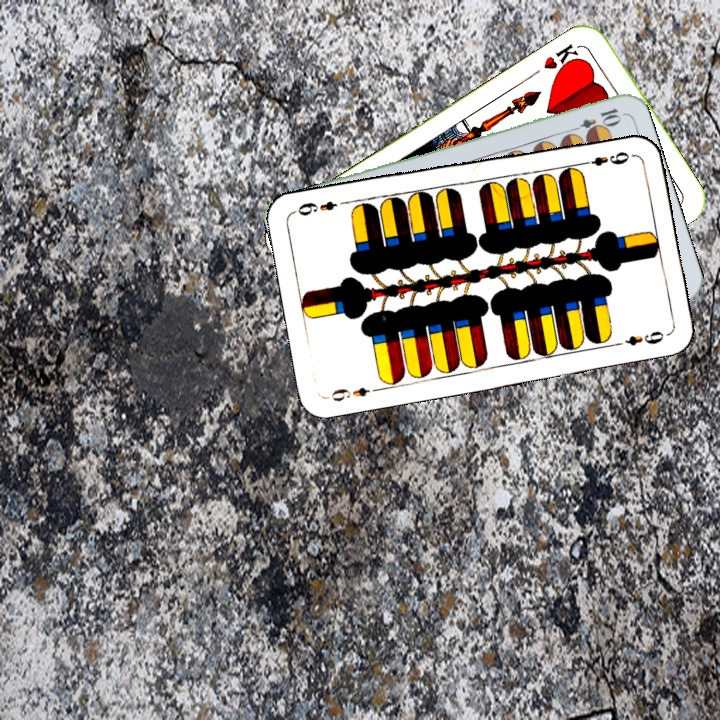E10: (565, 104, 623, 137)
E9: (577, 147, 636, 169), (324, 383, 383, 404)
HK: (539, 39, 584, 78)
